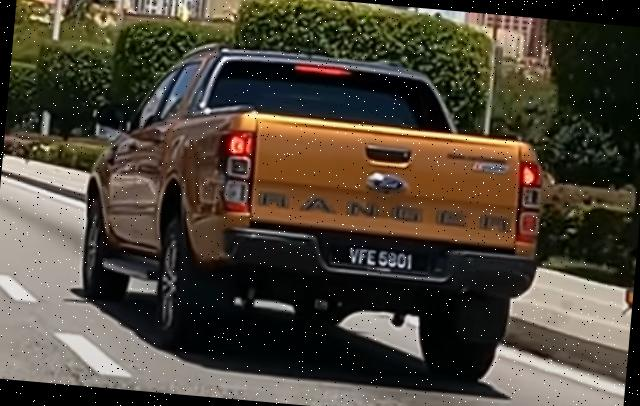License_Plate: (330, 242, 433, 277)
car: (71, 32, 556, 387)
